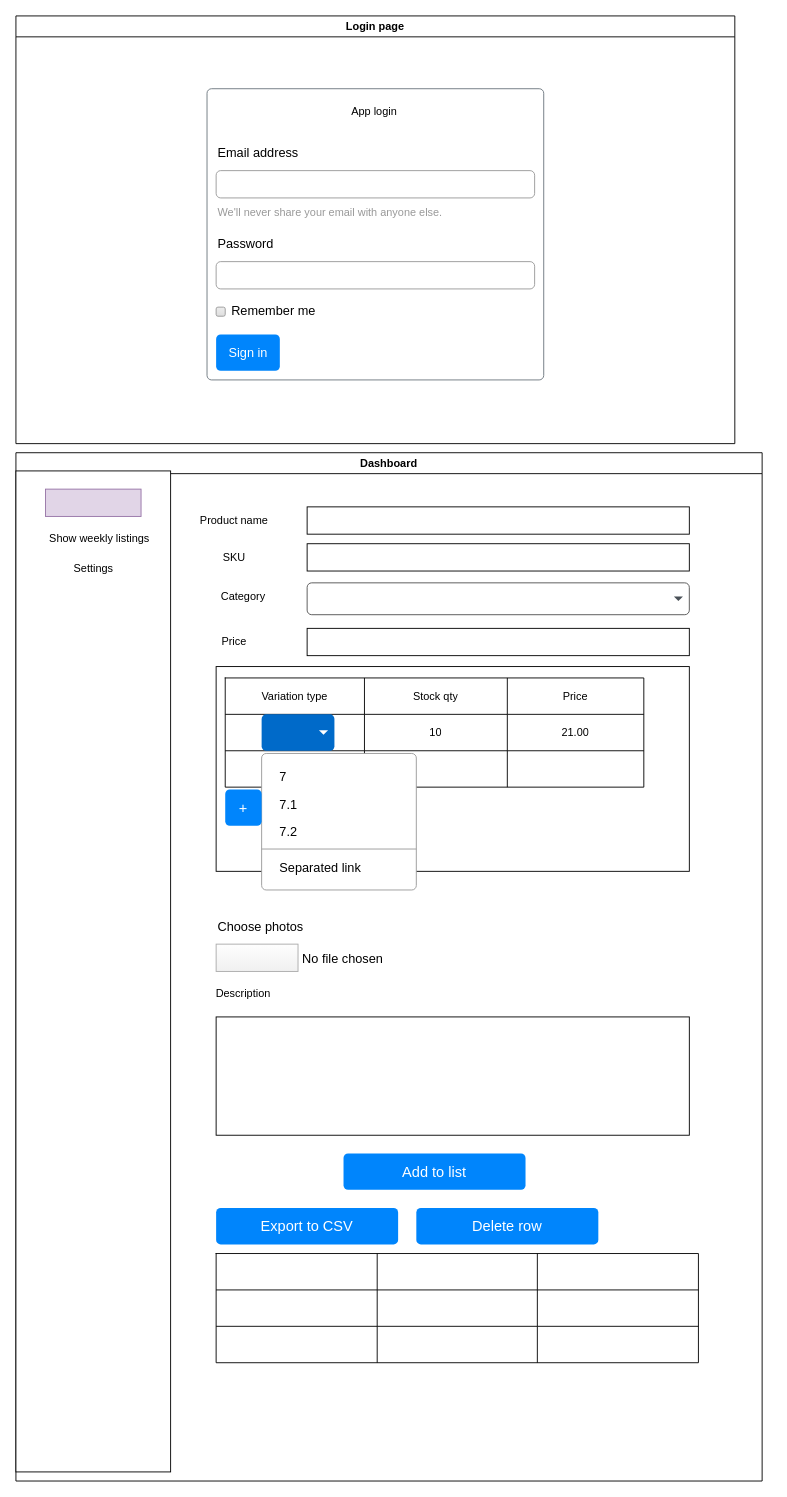
Image size: 787x1497. Some labels were removed from this diagram. Each missing label, with the centre of its shape:
Add new products: (x=93, y=502)
Choose Files: (x=256, y=957)
select: (x=497, y=598)
Size: (x=297, y=732)
